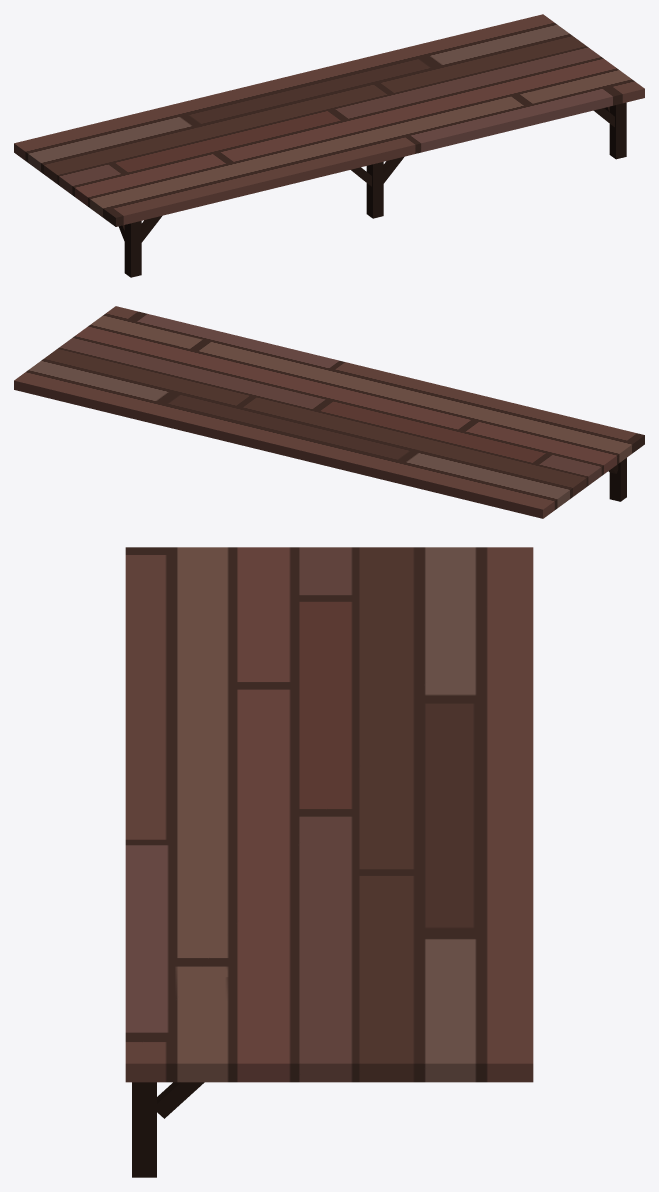
The model's file is Deck 6M v01.glb.
3 views of the same model, one above another, from view 1: azimuth 30°, elevation 25°; view 2: azimuth 150°, elevation 25°; view 3: azimuth 270°, elevation 25° (orthographic). The views are drawn at different scales.
Visible parts, largest first — view 1: Deck 6M v01; view 2: Deck 6M v01; view 3: Deck 6M v01.
Part boxes in pixels (x1,y1,x2,y2): Deck 6M v01: [14, 14, 644, 277]; Deck 6M v01: [14, 306, 644, 518]; Deck 6M v01: [125, 547, 533, 1177].
Size of what is drawn, in the model's own units: 6 by 0.7053 by 2.
2 materials, 2 textured.
